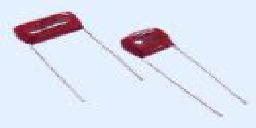Electrolytic-Capacitor: (120, 25, 254, 121), (10, 10, 119, 111)
